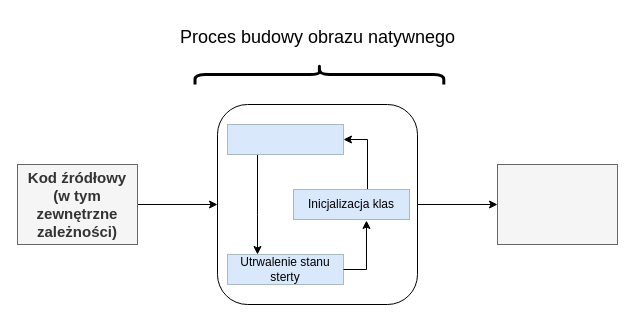
This 635x322 diagram has some shape labels left out. Here are the shapes that lost their labels. From the top down, the centre of each, then its label:
the point at 285,139: Analiza statyczna kodu
the point at 557,204: Obraz natywny
